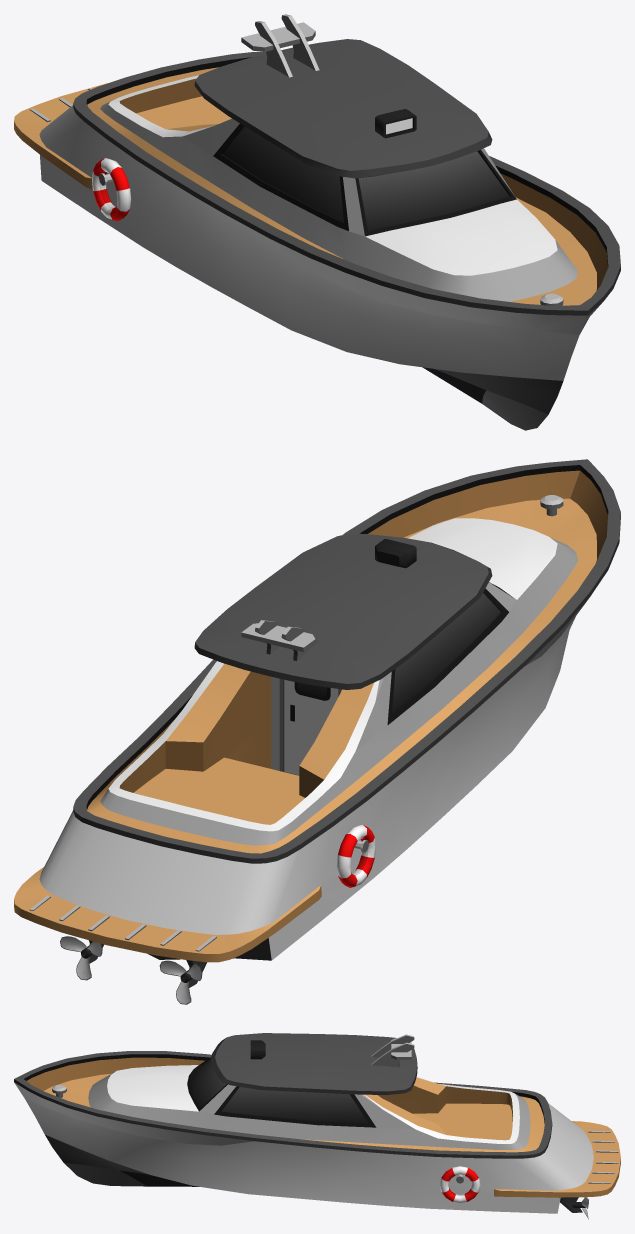
File: Boat.fbx
3 views of the same model, one above another, from view 1: azimuth 30°, elevation 25°; view 2: azimuth 150°, elevation 25°; view 3: azimuth 270°, elevation 25° (orthographic). The views are drawn at different scales.
Parts seen in each view (by area): view 1: Boat_Body; view 2: Boat_Body; view 3: Boat_Body.
Boxes of the visible parts, x1,y1,x2,y2 form: Boat_Body: [14, 14, 620, 430]; Boat_Body: [14, 459, 620, 1004]; Boat_Body: [14, 1033, 620, 1219].
Bounding box in the file's own units: 214 × 204 × 678.
